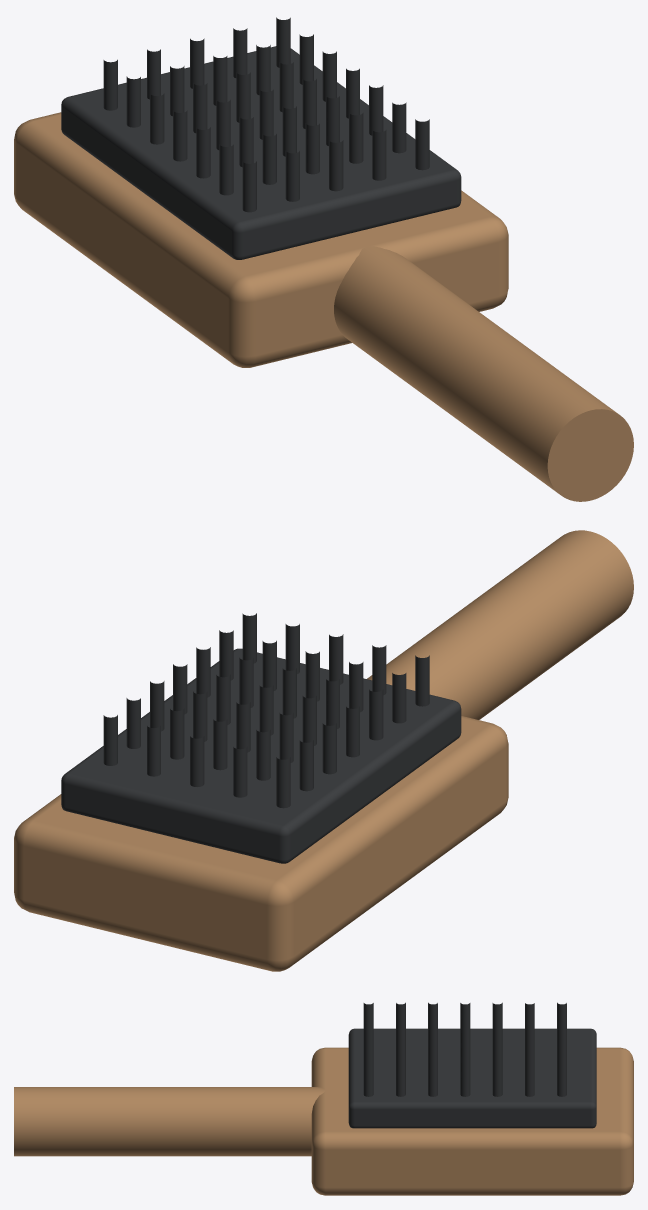
File: barbershop-and-hair-salon-paddle-brush-e642b32a__29662.glb
3 renders of one model, top to bottom at view 1: azimuth 30°, elevation 25°; view 2: azimuth 150°, elevation 25°; view 3: azimuth 270°, elevation 25°, orthographic. The views are drawn at different scales.
Parts seen in each view (by area): view 1: paddle-brush; view 2: paddle-brush; view 3: paddle-brush.
Boxes of the visible parts, left/top/right/bottom form: paddle-brush: left=14, top=17, right=633, bottom=501; paddle-brush: left=14, top=530, right=633, bottom=971; paddle-brush: left=14, top=1002, right=633, bottom=1195.
Bounding box in the file's own units: 0.09 × 0.054 × 0.25.
